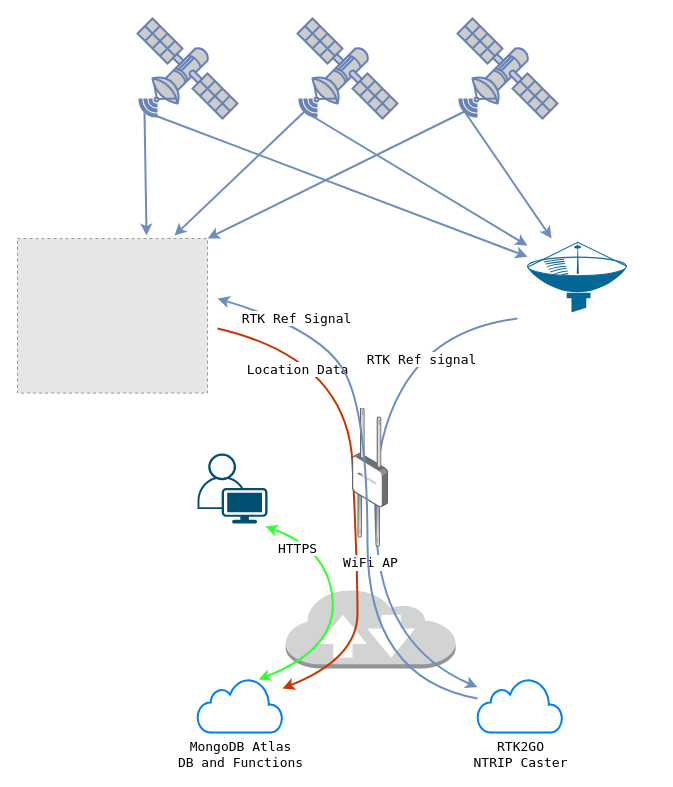
Image size: 673x787. Some labels were removed from this diagram. Grey dashed boxes stand in for pictures. The centre of each missing label's shape, as x and y in pixels:
"Internet" goes at (370,628).
"RTK-GNSS ESP32 - Base Station Fixed position" goes at (576,275).
